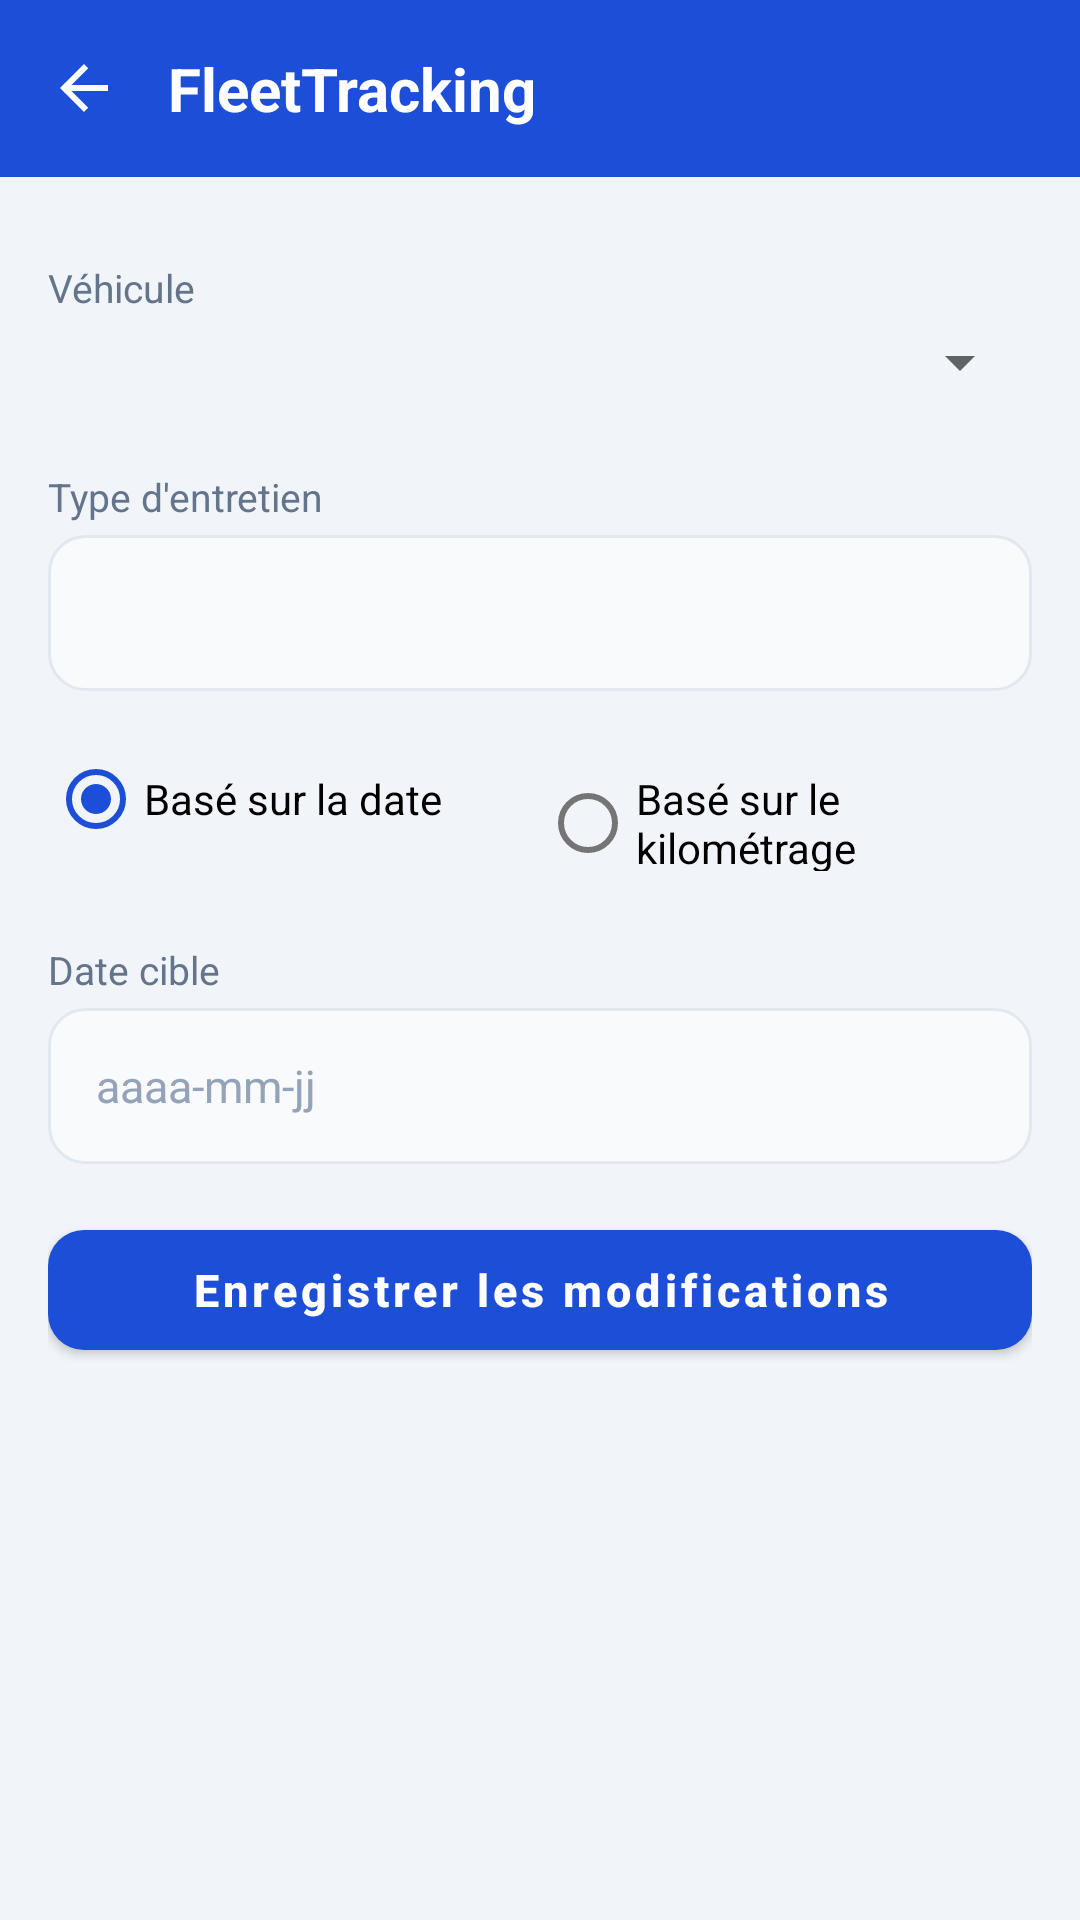

Screen size 1080*1920. Icon name, then its center in pixels as (x=x, y=y):
Retour: (x=84, y=88)
